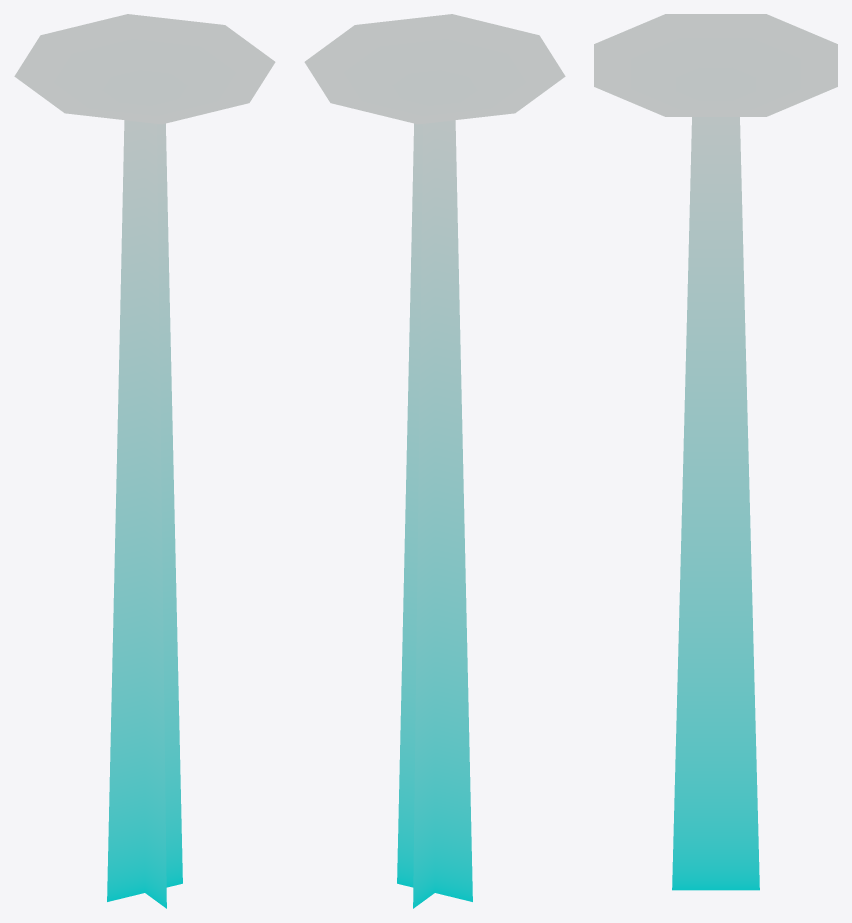
The model's file is Flower_A2_0.7m_01.fbx.
3 renders of one model, left to right at view 1: azimuth 30°, elevation 25°; view 2: azimuth 150°, elevation 25°; view 3: azimuth 270°, elevation 25°, orthographic.
Visible parts, largest first — view 1: Flower_A2_0.7m_01_LOD0; view 2: Flower_A2_0.7m_01_LOD0; view 3: Flower_A2_0.7m_01_LOD0.
Boxes of the visible parts, x1,y1,x2,y2 form: Flower_A2_0.7m_01_LOD0: [14, 14, 275, 908]; Flower_A2_0.7m_01_LOD0: [304, 14, 565, 908]; Flower_A2_0.7m_01_LOD0: [594, 14, 837, 890].
Size of what is drawn, in the model's own units: 0.1804 by 0.6734 by 0.1804.
